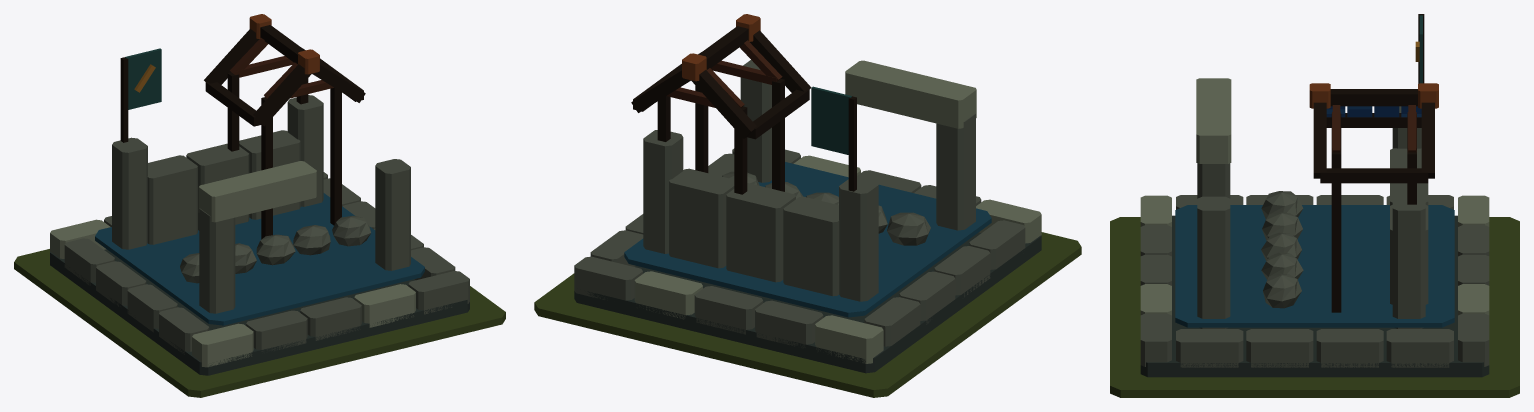
Rendered from sunken-chapel_t6.glb.
3 renders of one model, left to right at view 1: azimuth 30°, elevation 25°; view 2: azimuth 150°, elevation 25°; view 3: azimuth 270°, elevation 25°, orthographic. The views are drawn at different scales.
Parts seen in each view (by area): view 1: MMR | sunken-chapel | T06 Architecture.001, MMR | sunken-chapel | Tier 06 Ground.001; view 2: MMR | sunken-chapel | T06 Architecture.001, MMR | sunken-chapel | Tier 06 Ground.001; view 3: MMR | sunken-chapel | T06 Architecture.001, MMR | sunken-chapel | Tier 06 Ground.001.
Boxes of the visible parts, x1,y1,x2,y2 form: MMR | sunken-chapel | T06 Architecture.001: (50,14,469,375); MMR | sunken-chapel | Tier 06 Ground.001: (14,249,505,397); MMR | sunken-chapel | T06 Architecture.001: (574,14,1041,373); MMR | sunken-chapel | Tier 06 Ground.001: (534,232,1081,397); MMR | sunken-chapel | T06 Architecture.001: (1140,14,1489,377); MMR | sunken-chapel | Tier 06 Ground.001: (1110,217,1519,397).
Size of the model in its own units: 2.35 by 1.59 by 2.35.
1 material, 1 textured.
